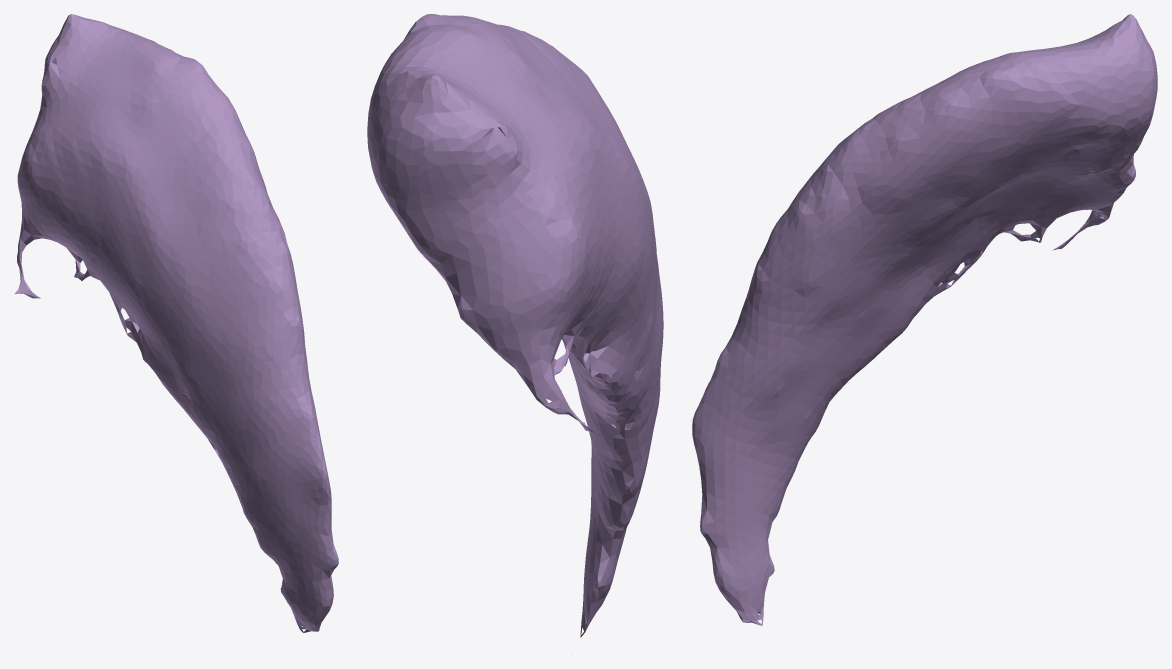
Rendered from Right_Caudate.glb.
3 views of the same model, side by side, from view 1: azimuth 30°, elevation 25°; view 2: azimuth 150°, elevation 25°; view 3: azimuth 270°, elevation 25° (orthographic). The views are drawn at different scales.
Visible parts, largest first — view 1: world; view 2: world; view 3: world.
Part boxes in pixels (bbox=[...]): world: bbox=[14, 14, 338, 632]; world: bbox=[367, 14, 663, 637]; world: bbox=[692, 14, 1157, 625].
Size of the model in its own units: 15.99 by 48.81 by 34.52.
